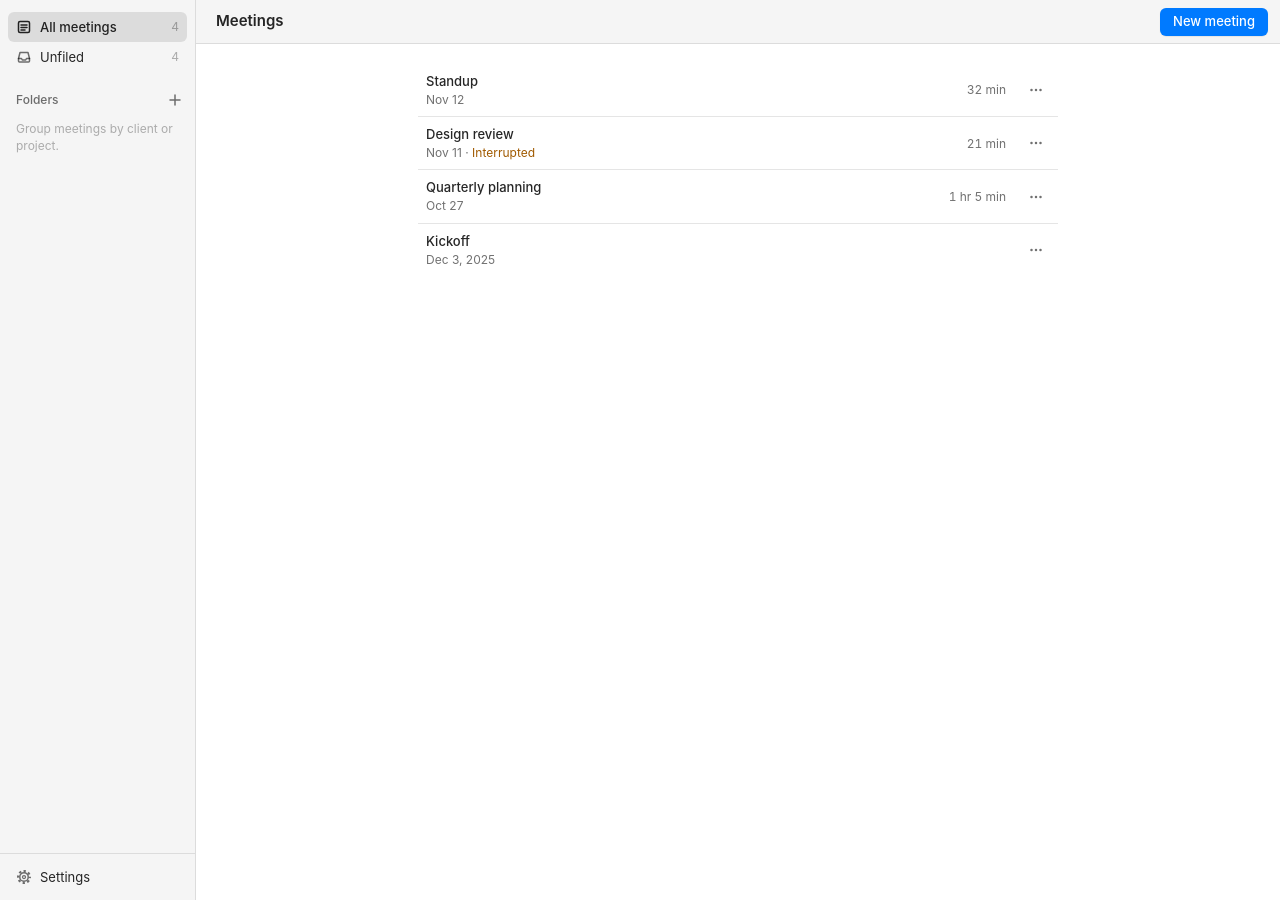
Test: the ⋯ menu › View opens the meeting
The width and height of the screenshot is (1280, 900).
Click the button named "Options for Design review": {"x": 1036, "y": 143} [1022,129,1050,157]
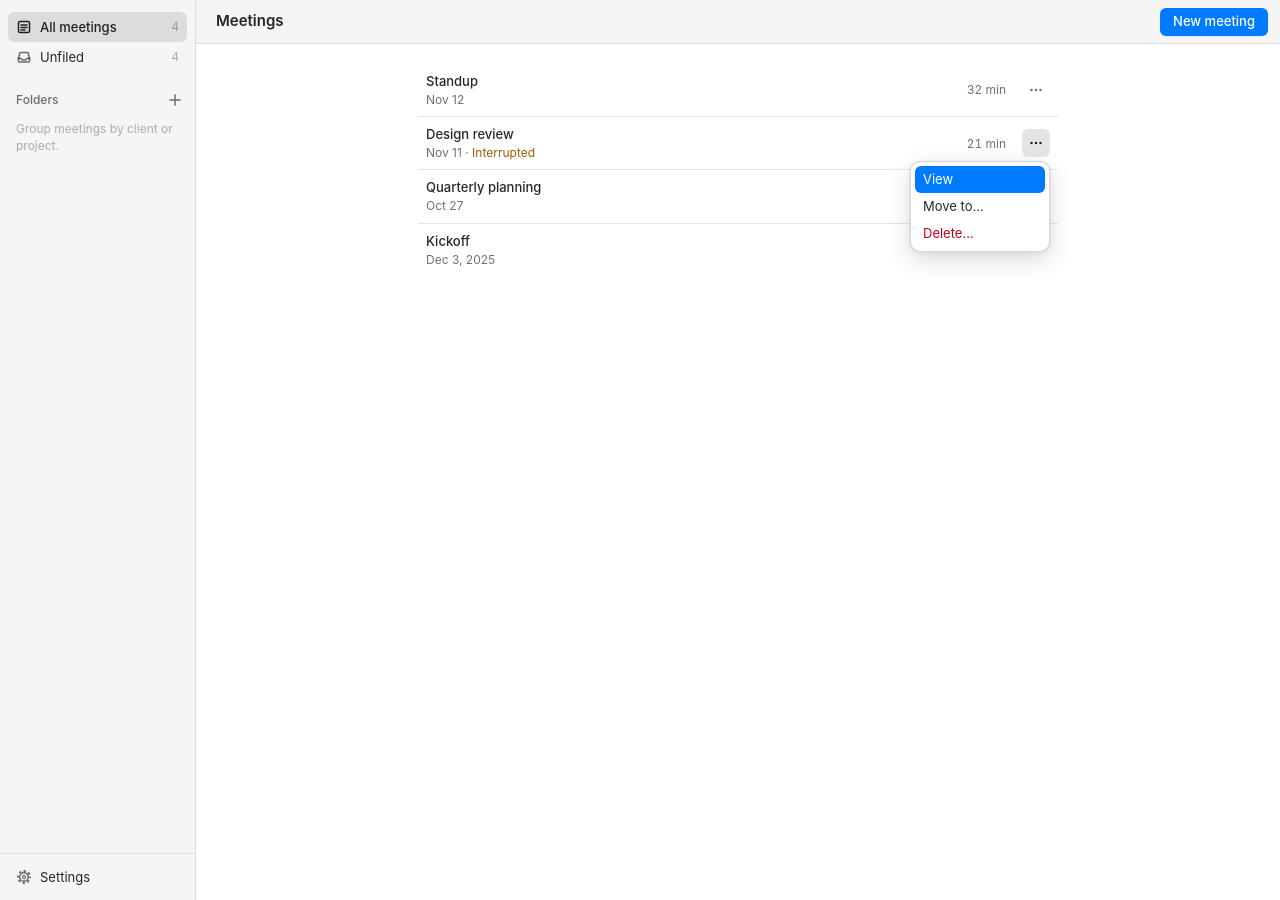
Click the menu item "View": {"x": 980, "y": 180} [915,166,1045,193]
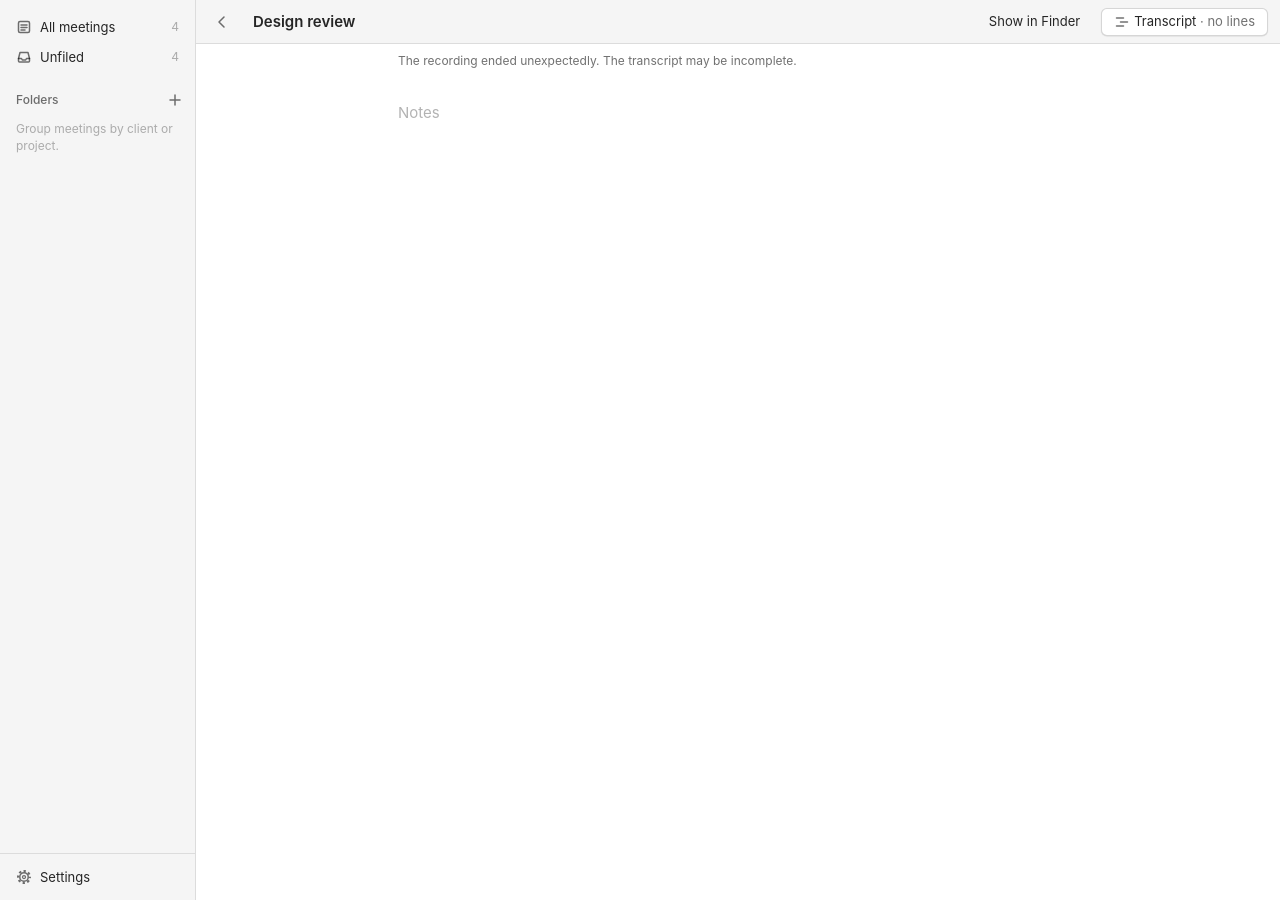
expect the heading named "Design review" is shown: met, box [244,8,644,36]
